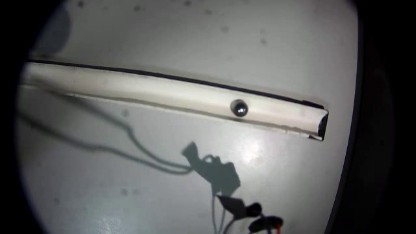gangzhu: (229, 98, 246, 115)
